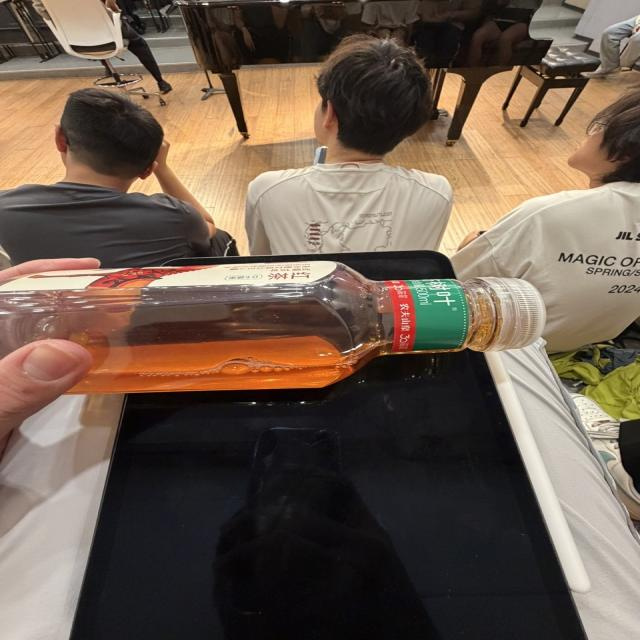medium: (0, 258, 545, 392)
